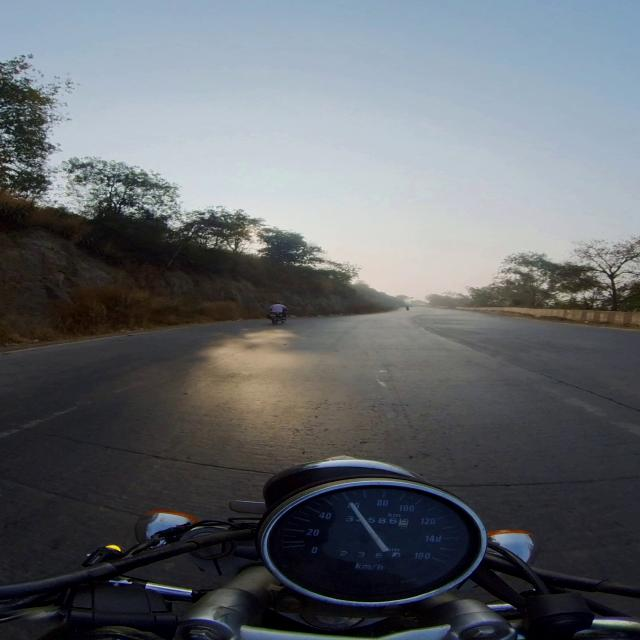motorcycle: (0, 457, 639, 639), (268, 312, 286, 324)
